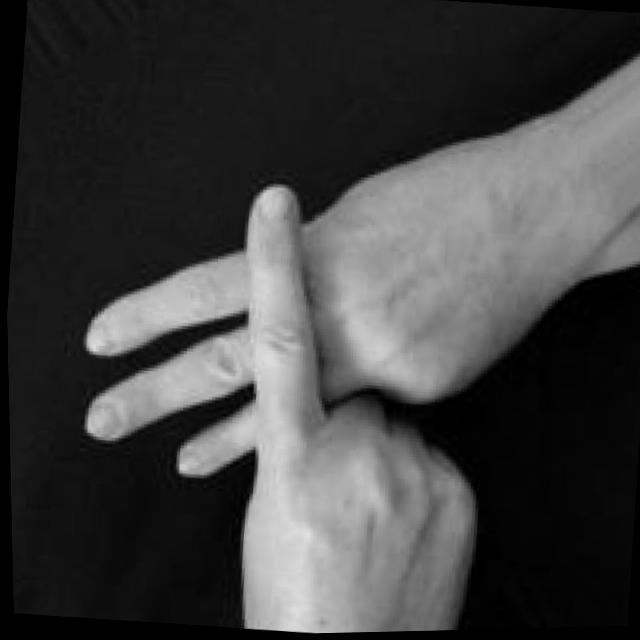E: (54, 74, 569, 639)
